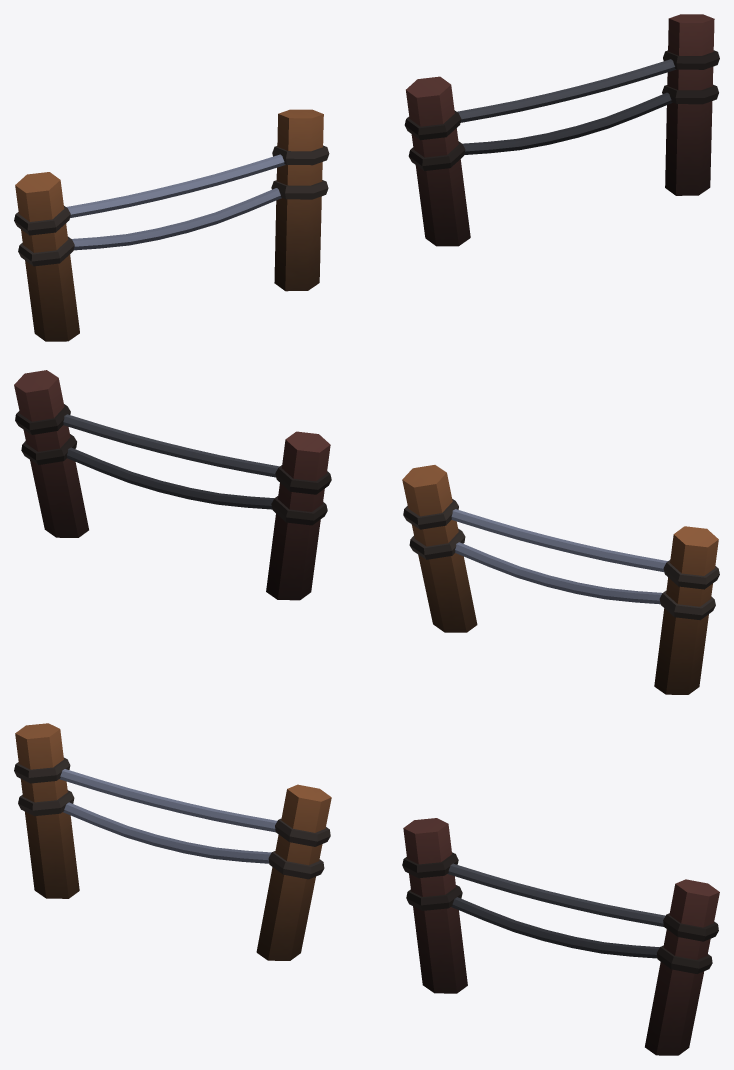
The model's file is Fence_wood_2.fbx.
The picture shows the model from 3 angles, top to bottom: view 1: azimuth 30°, elevation 25°; view 2: azimuth 150°, elevation 25°; view 3: azimuth 330°, elevation 25°; orthographic projection.
Visible parts, largest first — view 1: Fence_wood_2.001, Fence_wood_2; view 2: Fence_wood_2, Fence_wood_2.001; view 3: Fence_wood_2.001, Fence_wood_2.
Part boxes in pixels (x1=…): Fence_wood_2.001: x1=404, y1=14, x2=719, y2=246; Fence_wood_2: x1=14, y1=109, x2=329, y2=341; Fence_wood_2: x1=402, y1=465, x2=719, y2=694; Fence_wood_2.001: x1=14, y1=370, x2=331, y2=600; Fence_wood_2.001: x1=402, y1=818, x2=719, y2=1055; Fence_wood_2: x1=14, y1=723, x2=331, y2=960.
Size of the model in its own units: 229 by 50 by 20.
Materials: 1 (1 with a texture image).
